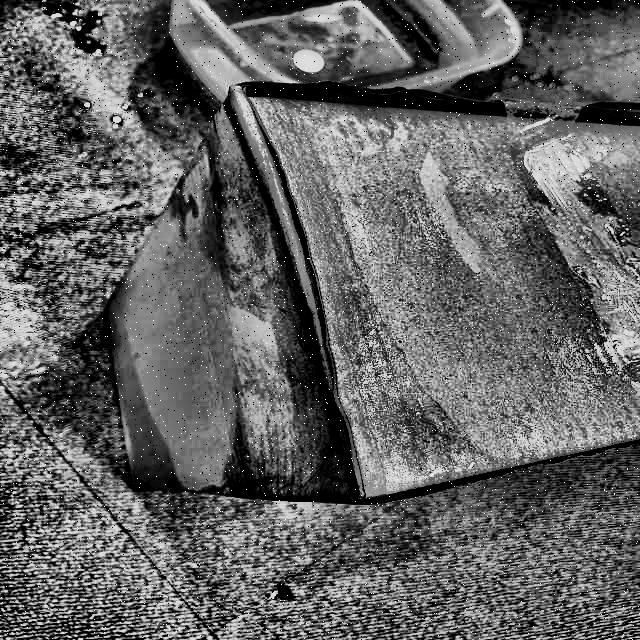box: (98, 81, 640, 521)
wet: (174, 80, 640, 492)
